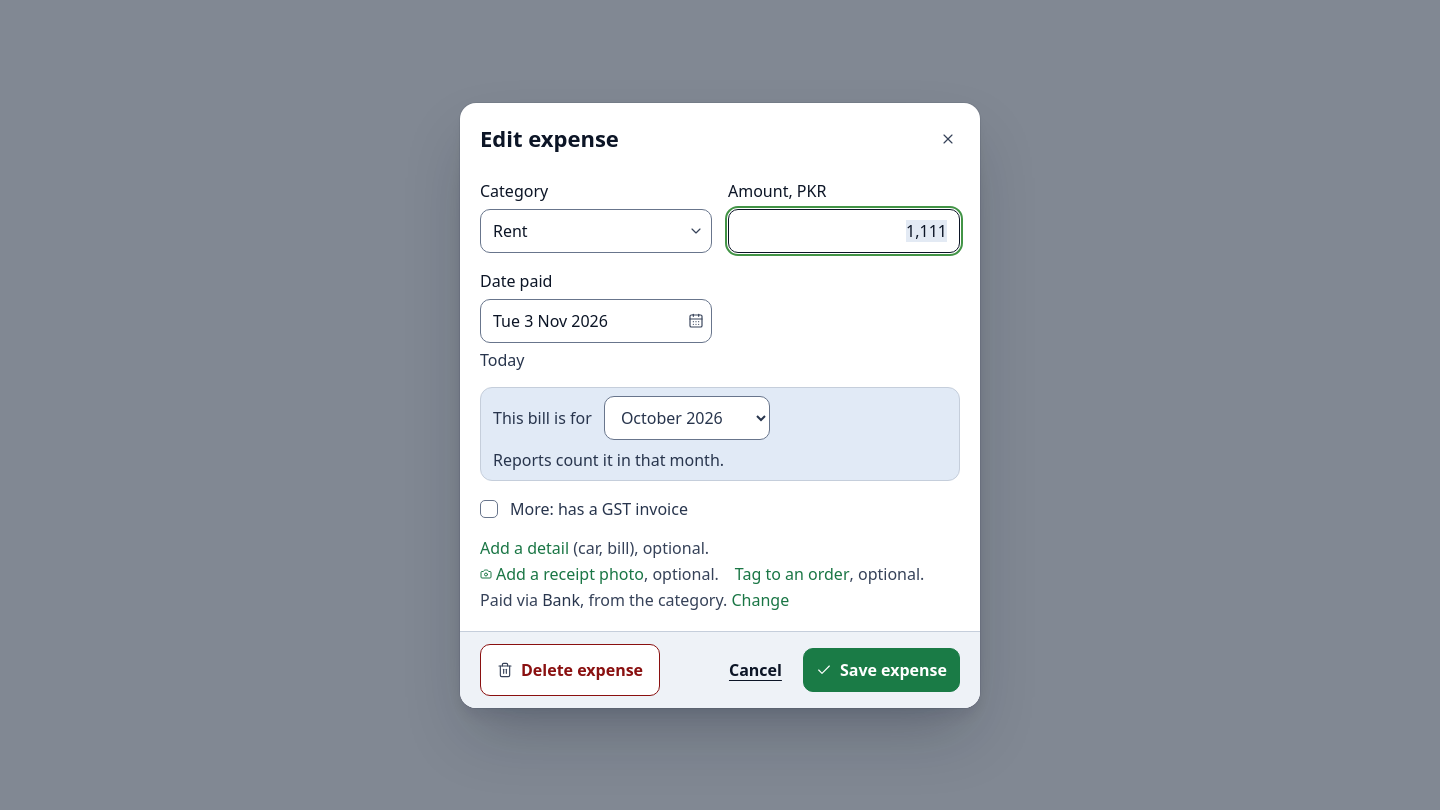
Scenario: Add expense dialog (M03) › Delete expense › a delete that removes 0 rows shows an error, not a success
The image size is (1440, 810).
Click the button "Delete expense" at (570, 670), box [480,644,660,696]
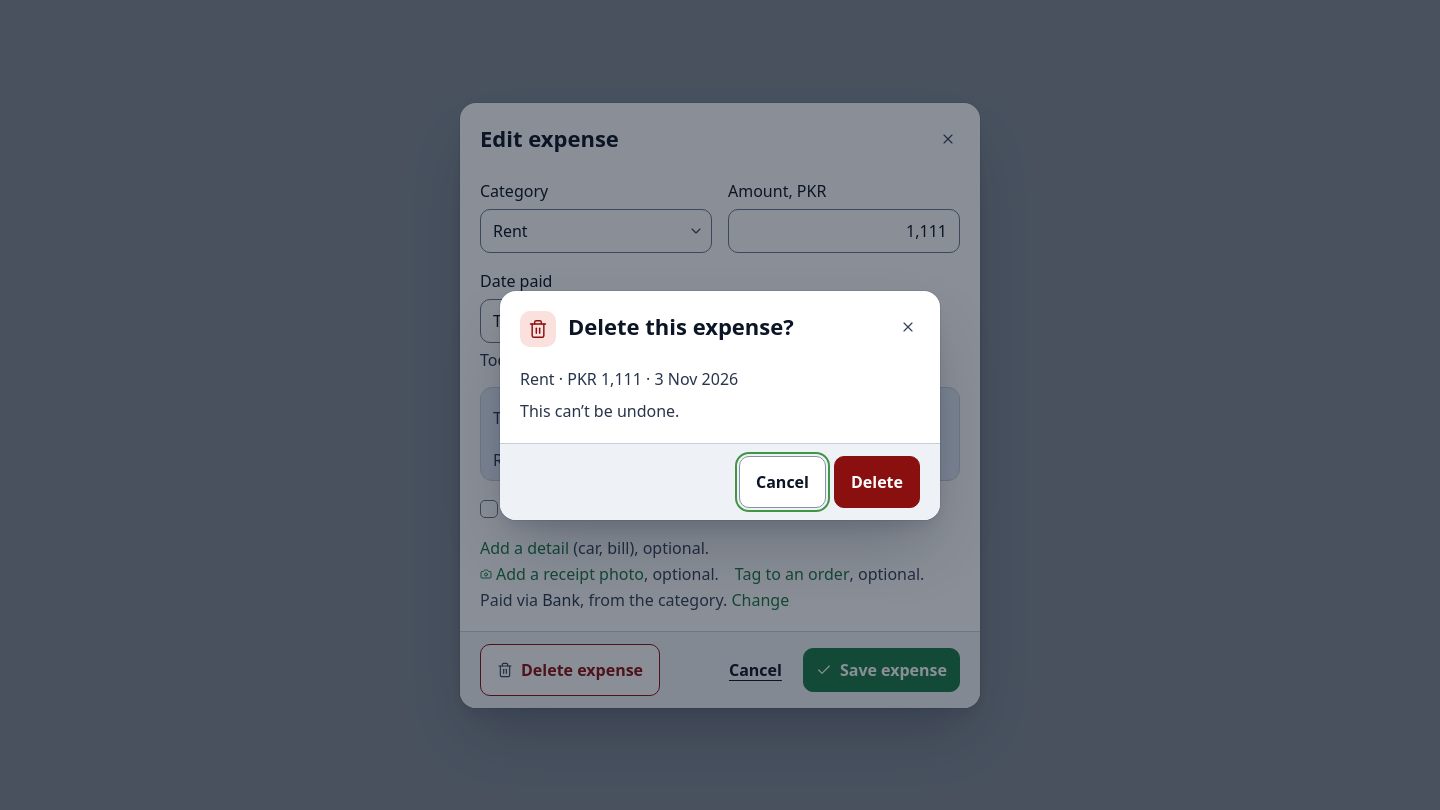
Click the button "Delete" at (877, 482), box [834,456,920,508]
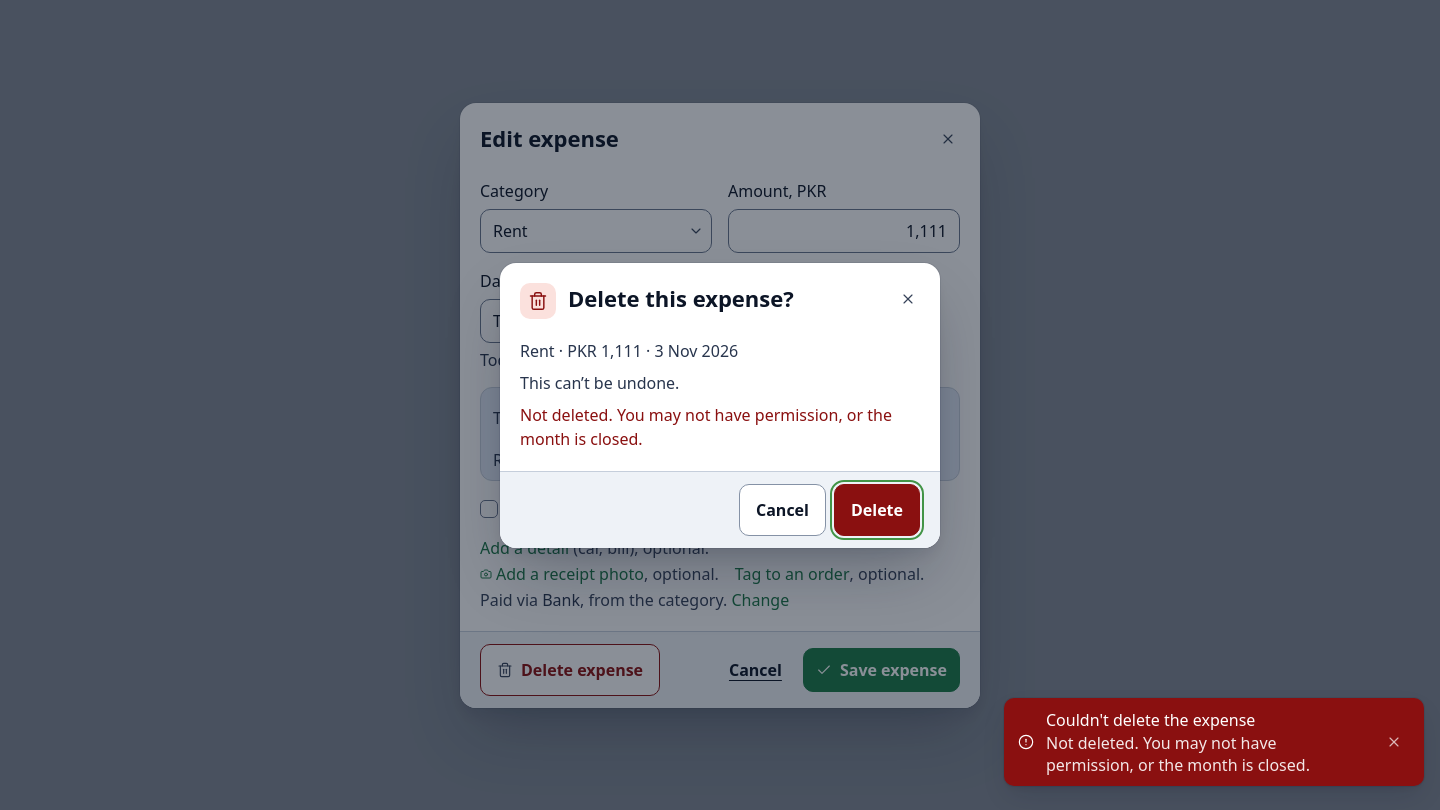
Expected: the text "Not deleted. You may not have permission, or the month is closed." is shown, [1046,732,1310,776]
